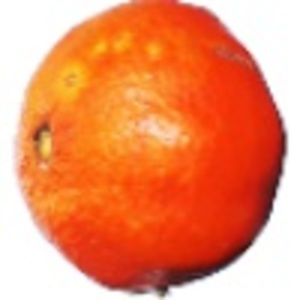tangerina: (12, 1, 289, 300)
